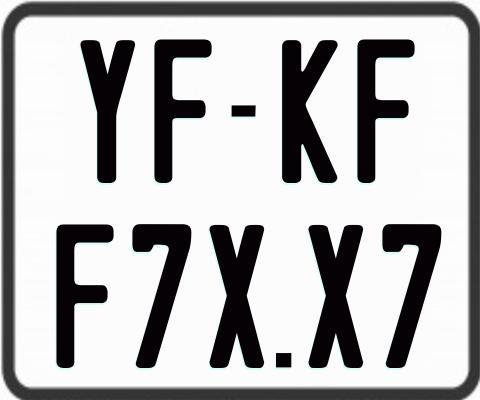7: (382, 224, 446, 368), (130, 222, 190, 371)
F: (355, 38, 418, 185), (53, 221, 116, 366), (152, 36, 213, 180)
K: (279, 39, 335, 185)
X: (308, 224, 366, 370), (210, 224, 266, 373)
Y: (79, 39, 140, 183)
